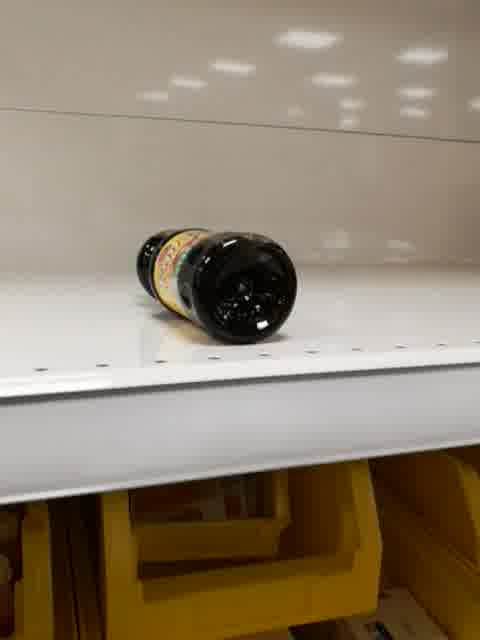cookingoil: (130, 225, 301, 349)
